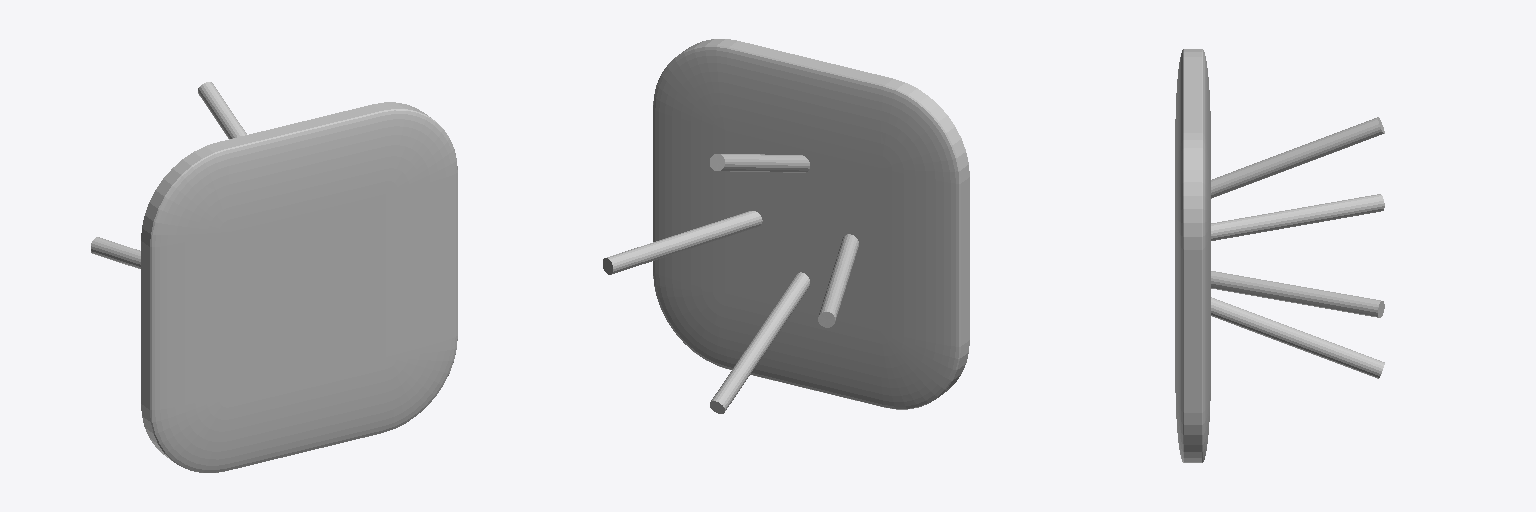
Rendered from table.obj.
3 renders of one model, left to right at view 1: azimuth 30°, elevation 25°; view 2: azimuth 150°, elevation 25°; view 3: azimuth 270°, elevation 25°, orthographic.
Visible parts, largest first — view 1: obj_0; view 2: obj_0; view 3: obj_0.
Boxes of the visible parts, <box> form: obj_0: <box>91,82,457,472</box>; obj_0: <box>603,39,969,413</box>; obj_0: <box>1175,49,1384,462</box>.
Size of the model in its own units: 20 by 20 by 11.77.